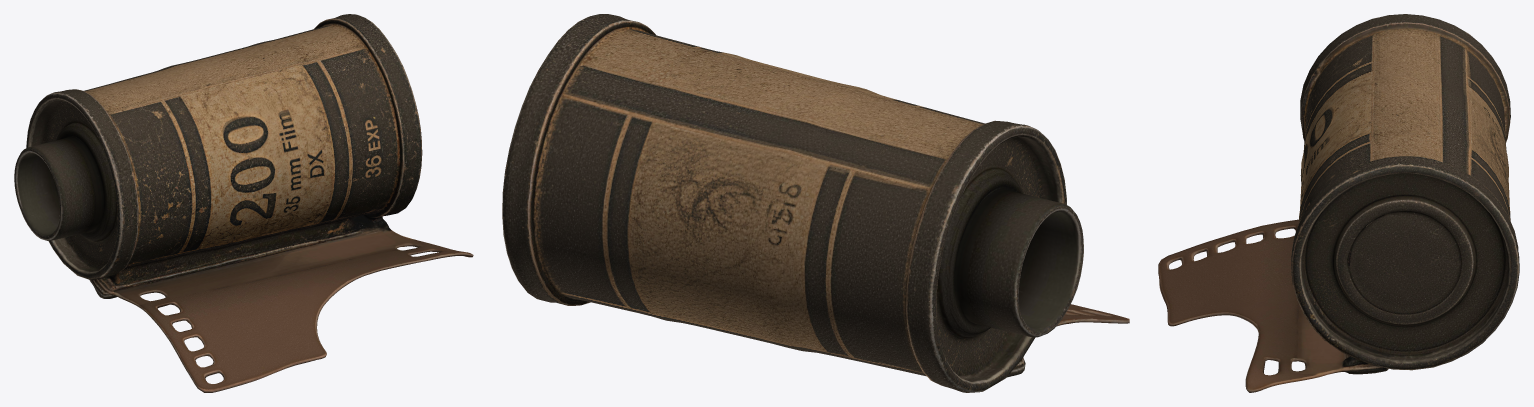
The model's file is tripo_convert_4555f767-908f-4c66-877b-b92a9be6f46b.fbx.
3 renders of one model, left to right at view 1: azimuth 30°, elevation 25°; view 2: azimuth 150°, elevation 25°; view 3: azimuth 270°, elevation 25°, orthographic. The views are drawn at different scales.
Visible parts, largest first — view 1: tripo_node_4555f767; view 2: tripo_node_4555f767; view 3: tripo_node_4555f767.
Part boxes in pixels (x1,y1,x2,y2): tripo_node_4555f767: (14,14,473,392); tripo_node_4555f767: (502,14,1129,392); tripo_node_4555f767: (1158,14,1519,392).
Bounding box in the file's own units: 0.9774 × 0.5763 × 0.7662.
Materials: 1 (1 with a texture image).
